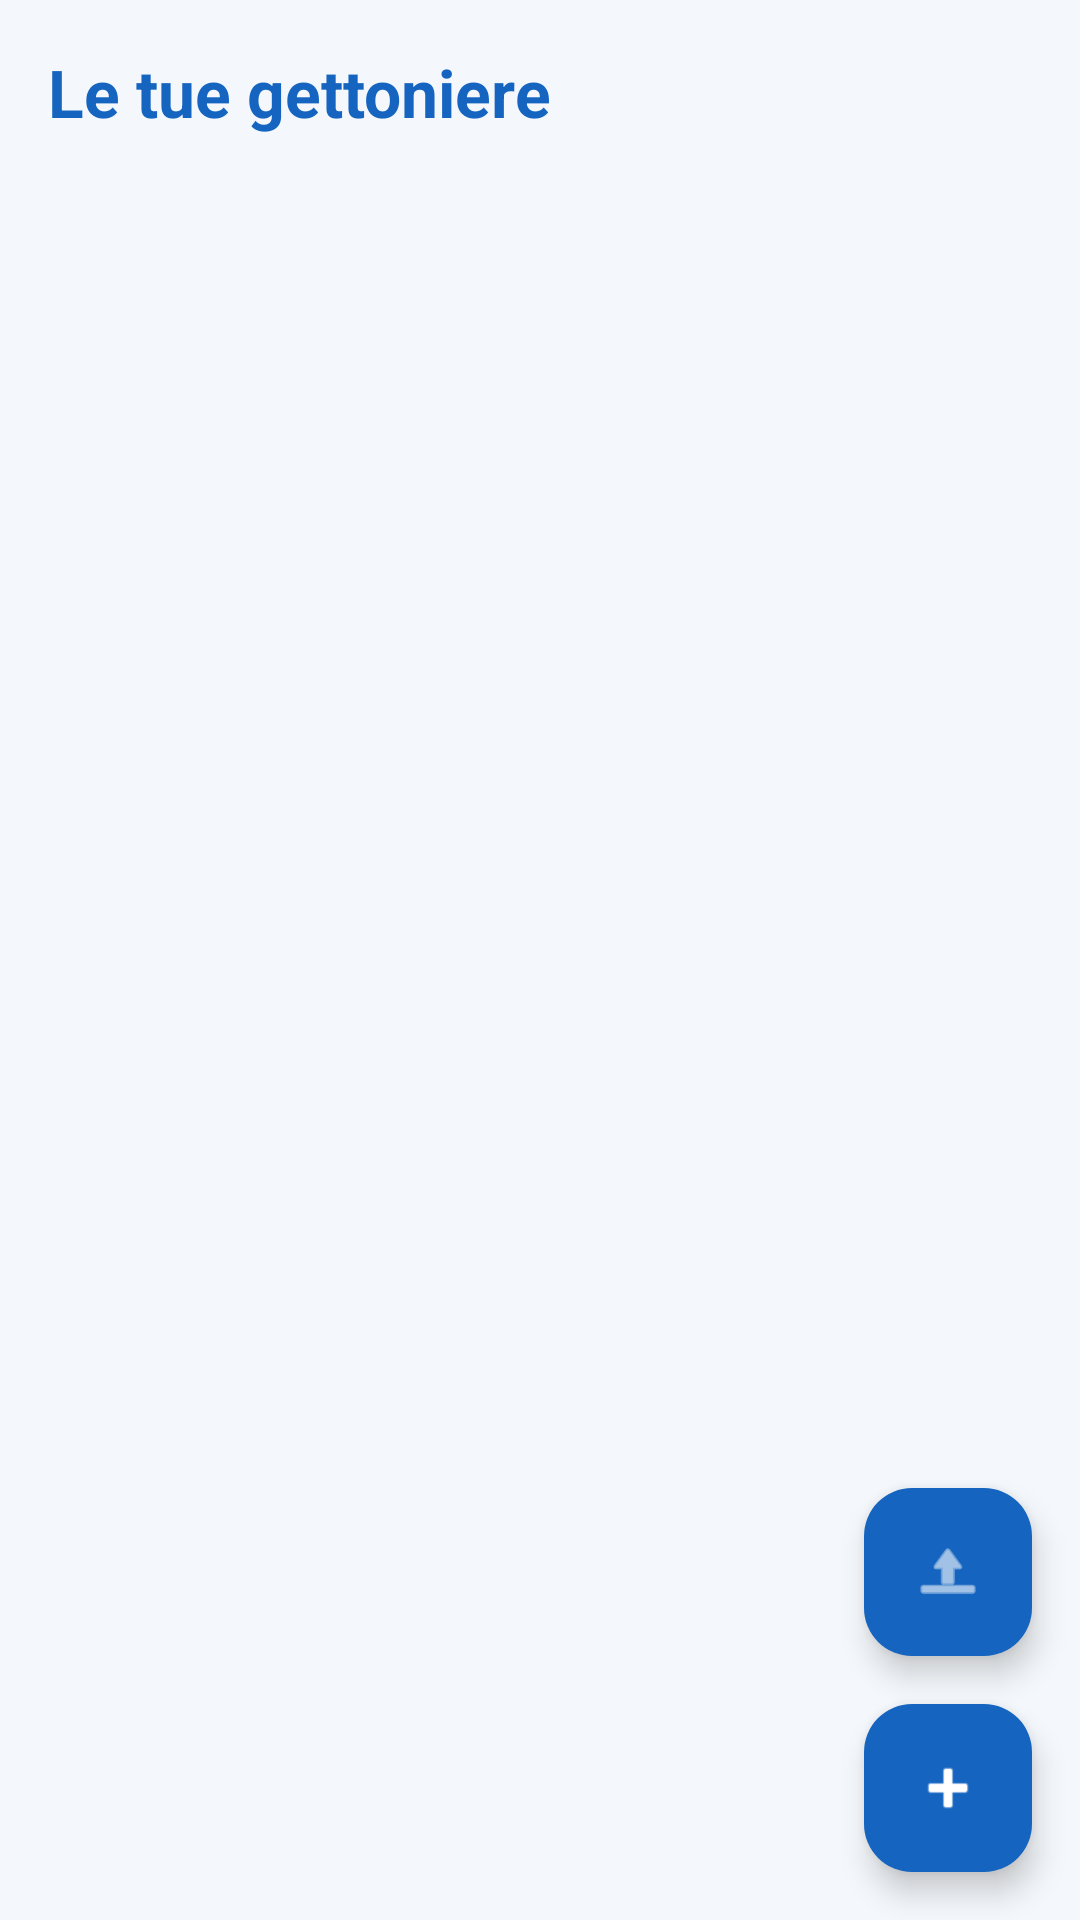

Where to tap for icons on this 1080 x 1920 app screen, as (x,y):
Aggiungi rilevazione: (948,1788)
Importa file EVA DTS: (948,1572)
